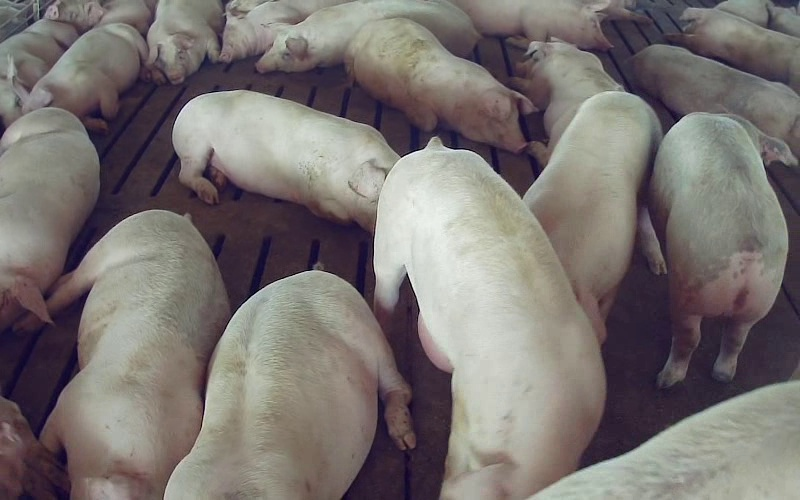pig: (374, 138, 605, 499), (165, 271, 414, 499), (40, 210, 229, 499), (649, 115, 795, 387), (524, 91, 665, 344), (530, 380, 799, 499), (172, 90, 398, 230), (348, 18, 534, 152), (0, 108, 98, 330), (631, 44, 799, 159), (256, 0, 479, 72), (509, 38, 623, 167), (24, 23, 147, 130), (665, 8, 799, 94), (0, 19, 78, 127), (220, 0, 349, 62), (453, 0, 611, 50)
